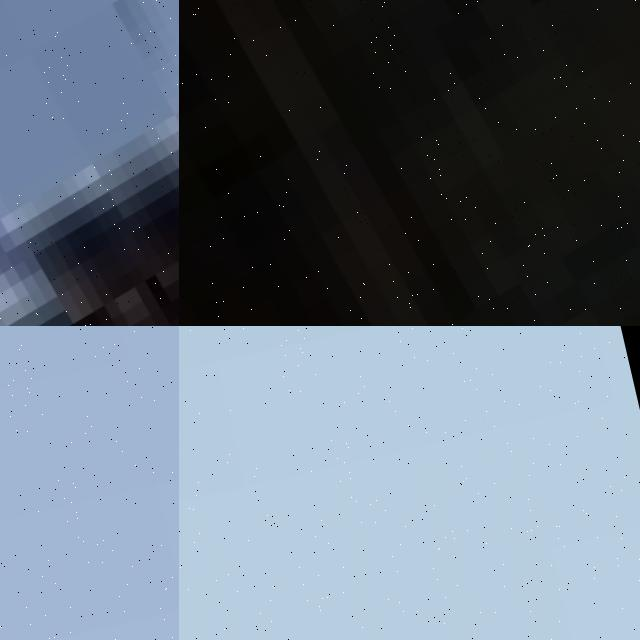0: (0, 0, 179, 326)
drone: (179, 0, 640, 326)
